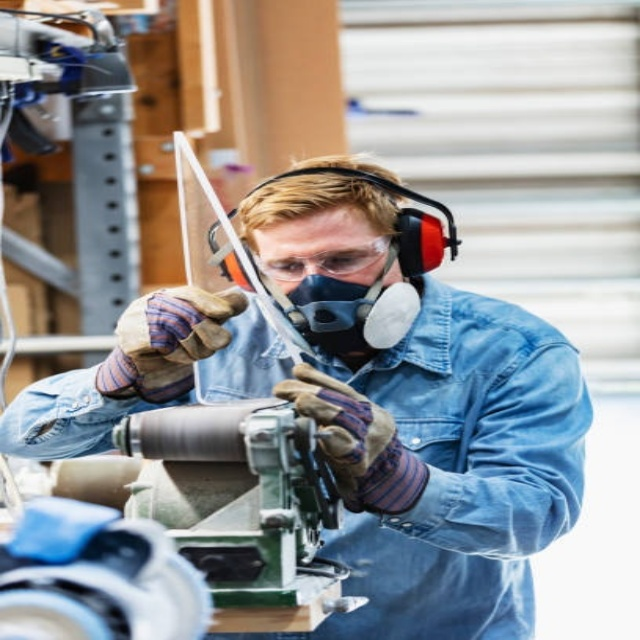Gafas: (252, 233, 395, 280)
Guantes: (272, 363, 420, 510), (99, 285, 250, 402)
Mascara: (249, 272, 425, 357)
